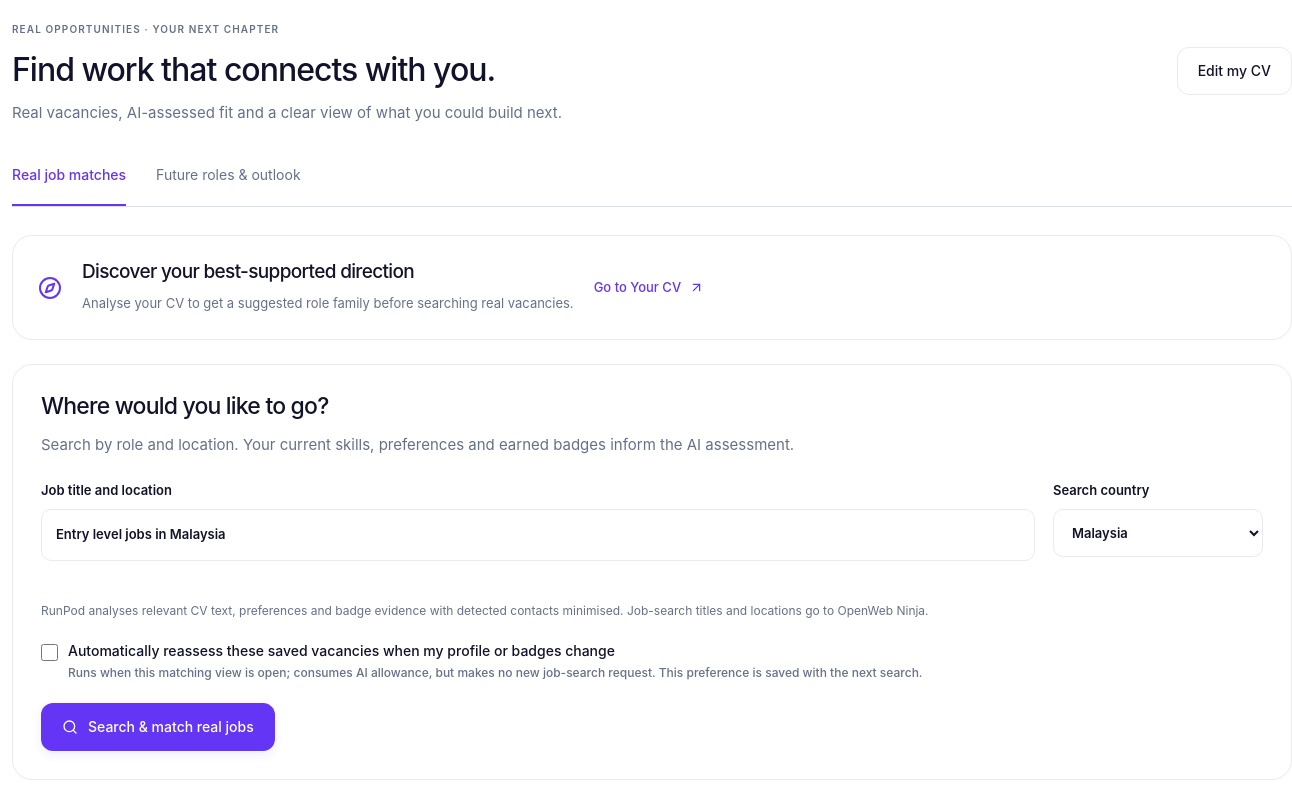
searches real vacancies only on request without a consent gate and keeps source application links
The image size is (1292, 800).
Expected: the button "Search & match real jobs" is enabled, [41, 703, 275, 751]
Replace the text in the field labelled "Job title and location" with "Network support in Kuala Lumpur": (538, 535) [41, 509, 1035, 560]
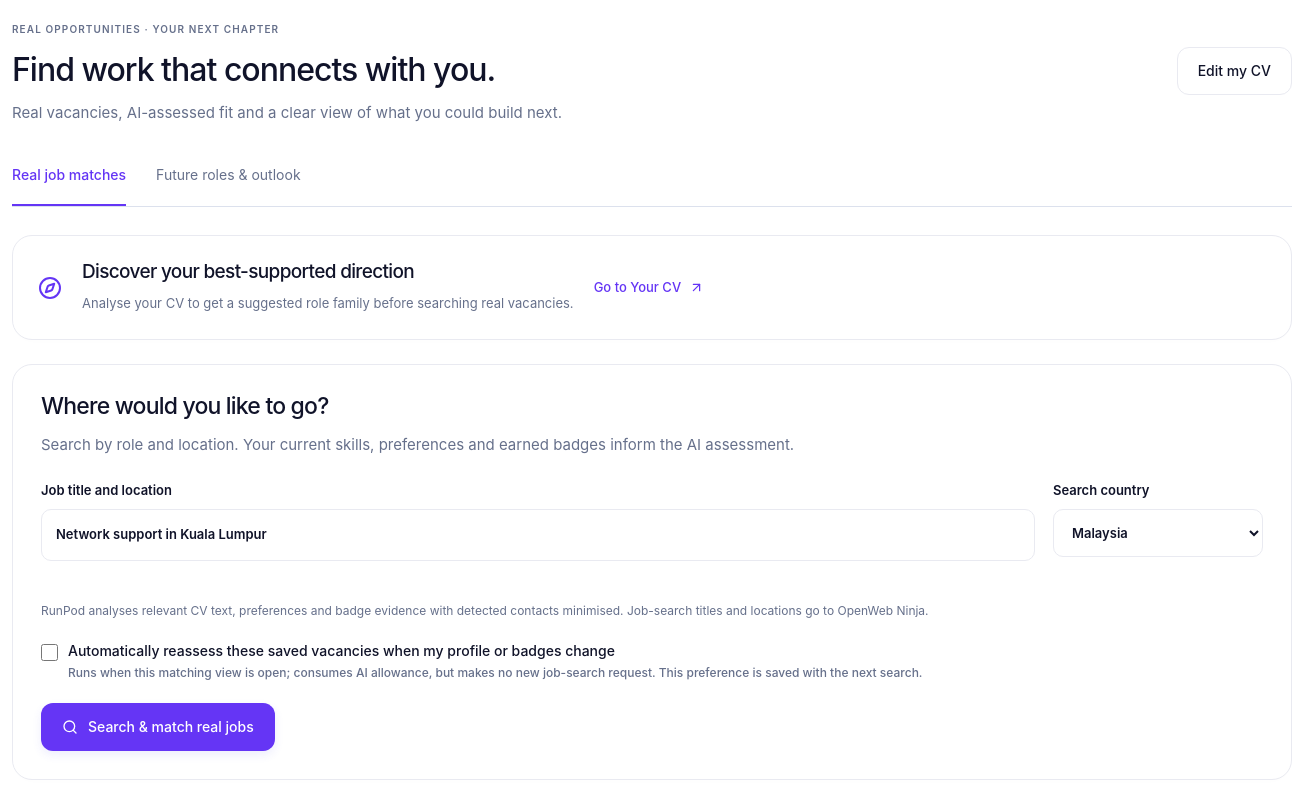
Click the button "Search & match real jobs": (158, 727) [41, 703, 275, 751]
(page scrolled)
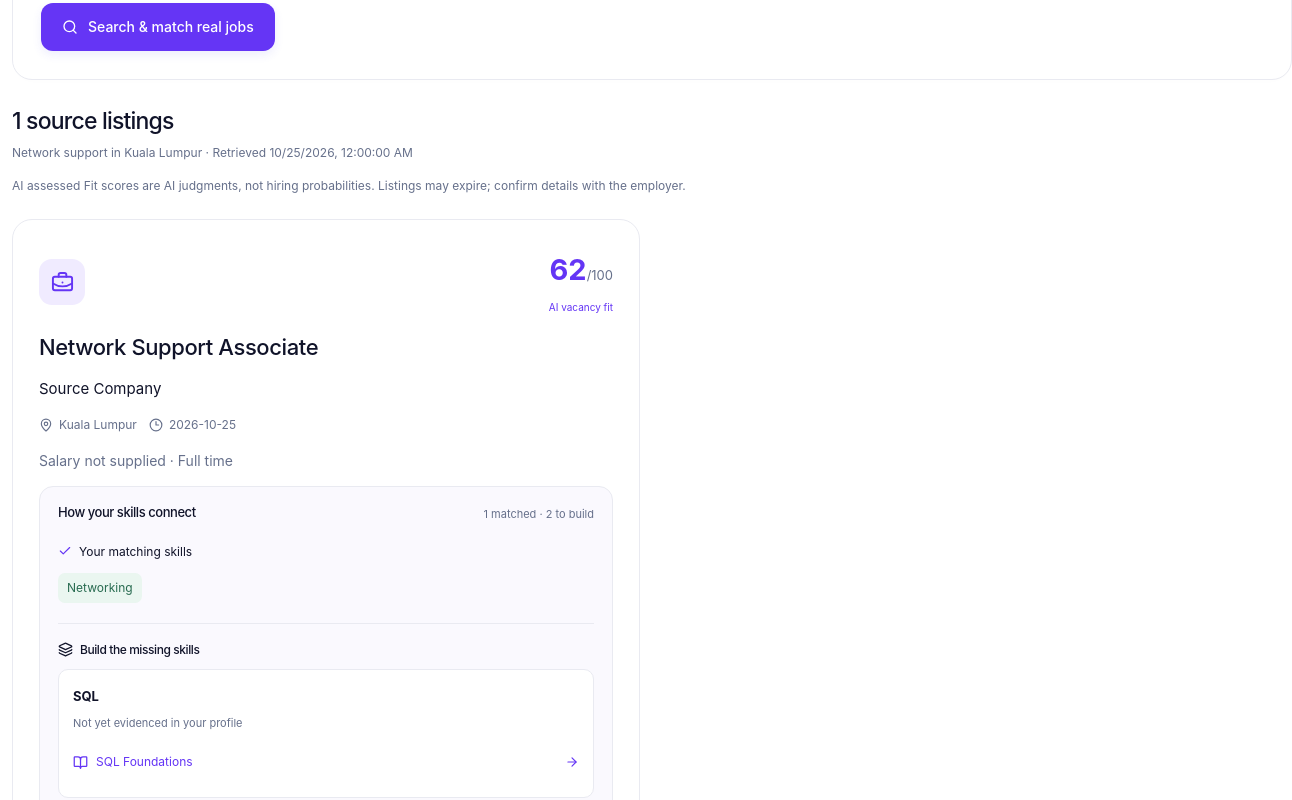
Now the heading "Network Support Associate" is shown, box [39, 334, 318, 360]
Now the text "Salary not supplied · Full time" is shown, box [39, 452, 233, 469]
